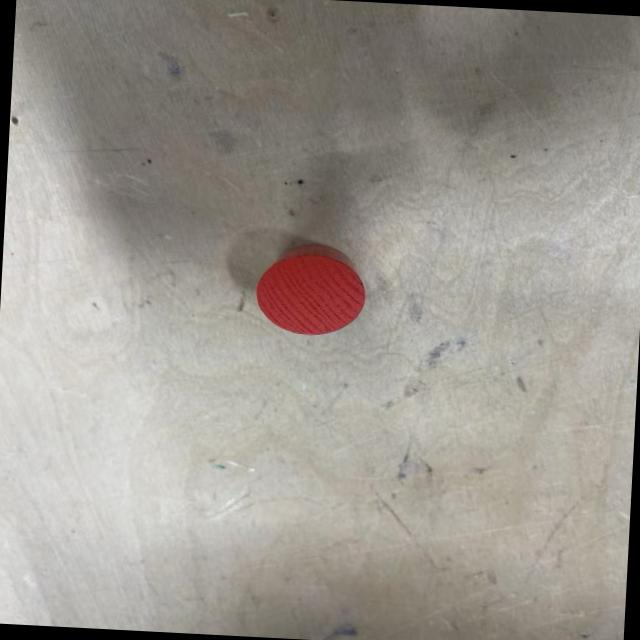red_cylinder: (254, 242, 369, 338)
